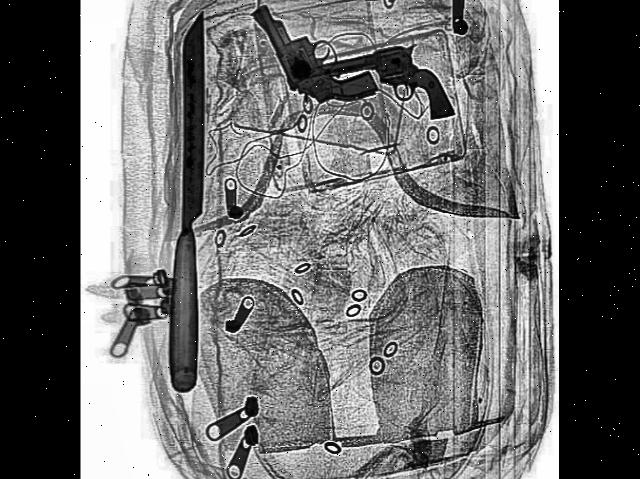Gun: (248, 0, 377, 153), (294, 35, 453, 146)
Knife: (165, 11, 212, 394)
